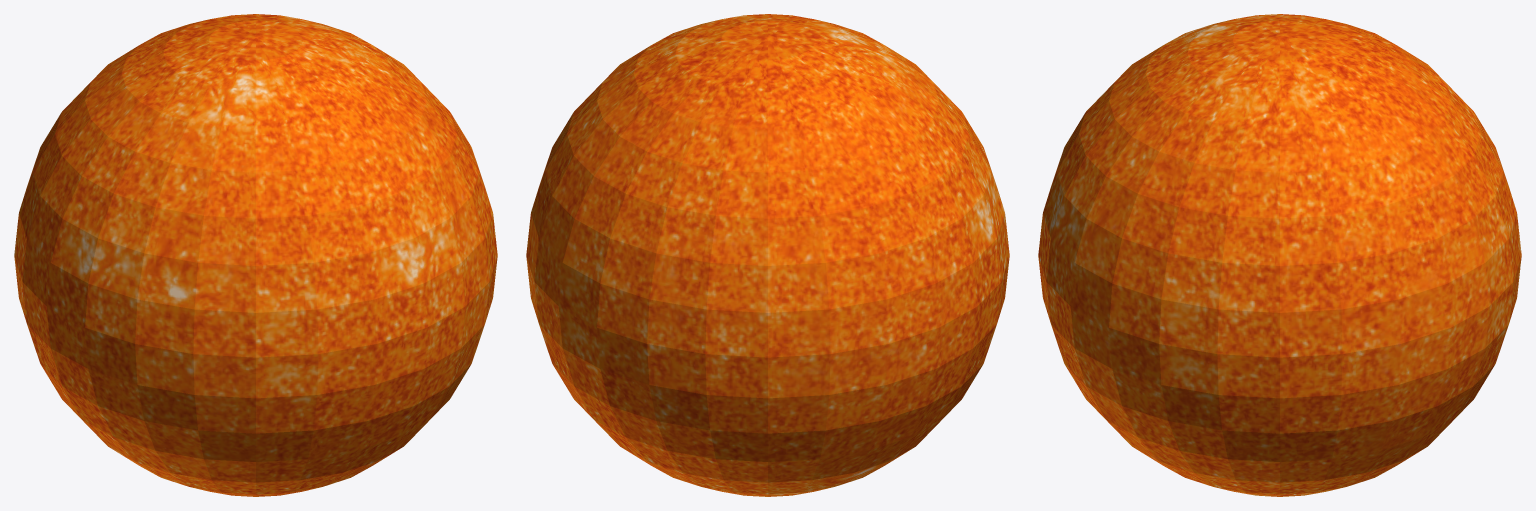
The model's file is sun.obj.
The picture shows the model from 3 angles, left to right: view 1: azimuth 30°, elevation 25°; view 2: azimuth 150°, elevation 25°; view 3: azimuth 270°, elevation 25°; orthographic projection.
Parts seen in each view (by area): view 1: mesh1; view 2: mesh1; view 3: mesh1.
Boxes of the visible parts, bbox=[...] form: mesh1: bbox=[14, 14, 497, 496]; mesh1: bbox=[526, 14, 1009, 496]; mesh1: bbox=[1038, 14, 1521, 496].
Bounding box in the file's own units: 1.98 × 1.98 × 1.98.
Materials: 1 (1 with a texture image).
